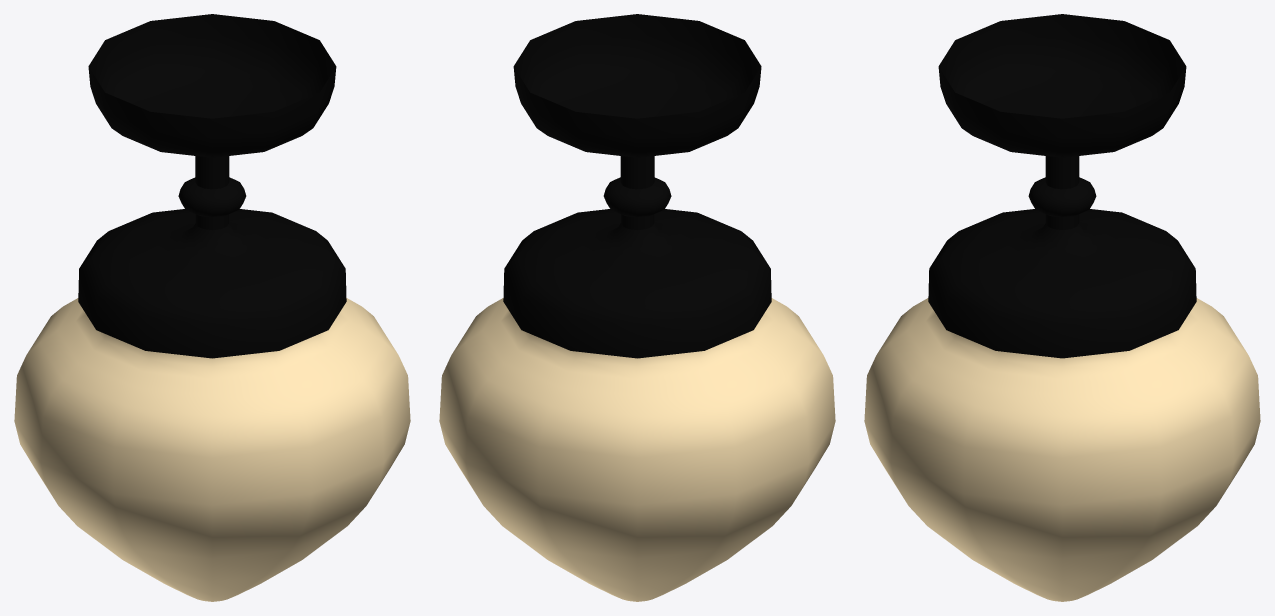
File: Lamp.FBX
The picture shows the model from 3 angles, left to right: view 1: azimuth 30°, elevation 25°; view 2: azimuth 150°, elevation 25°; view 3: azimuth 270°, elevation 25°; orthographic projection.
Visible parts, largest first — view 1: Bulb, Lamp; view 2: Bulb, Lamp; view 3: Bulb, Lamp.
Part boxes in pixels (bbox=[...]): Bulb: bbox=[14, 298, 410, 601]; Lamp: bbox=[78, 14, 346, 358]; Bulb: bbox=[439, 298, 835, 601]; Lamp: bbox=[503, 14, 771, 358]; Bulb: bbox=[864, 298, 1260, 601]; Lamp: bbox=[928, 14, 1196, 358].
Size of the model in its own units: 12.23 by 18.12 by 12.23.
